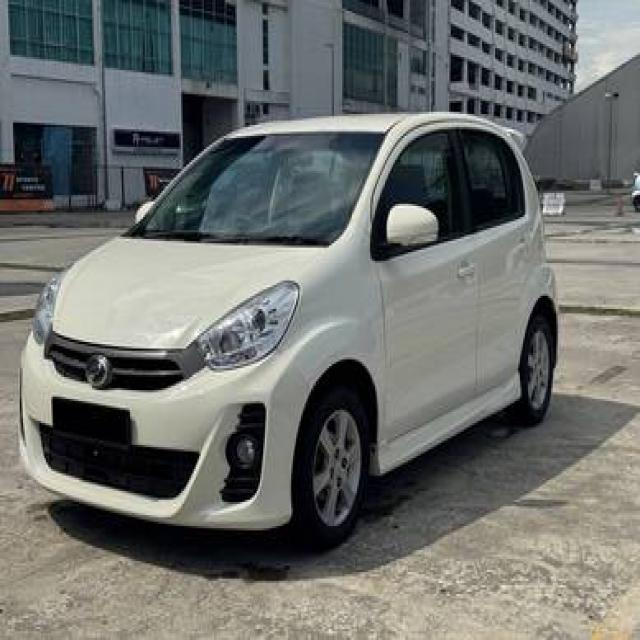PeroduaMyvi: (17, 108, 560, 550)
